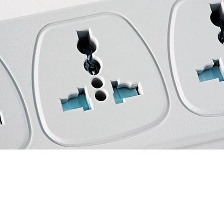three_eye_plug: (0, 0, 224, 151)
